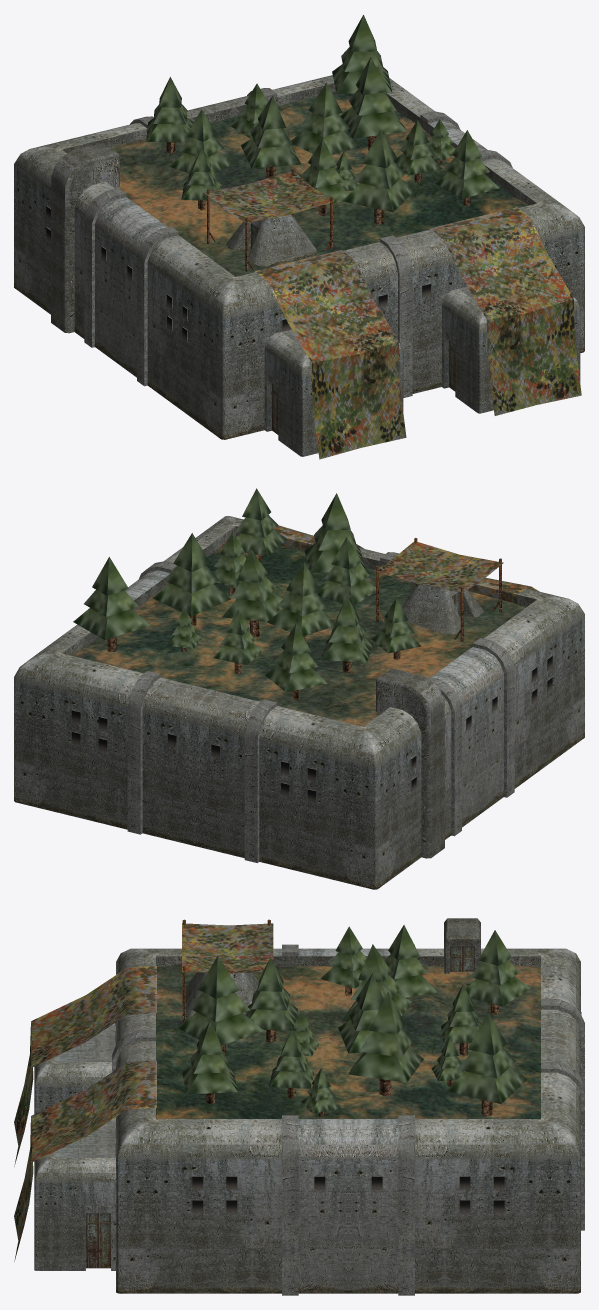
The model's file is wolfsschanze_low_poly.glb.
3 renders of one model, top to bottom at view 1: azimuth 30°, elevation 25°; view 2: azimuth 150°, elevation 25°; view 3: azimuth 270°, elevation 25°, orthographic. The views are drawn at different scales.
Visible parts, largest first — view 1: Material1; view 2: Material1; view 3: Material1.
Part boxes in pixels (x1=…): Material1: x1=14, y1=15, x2=584, y2=459; Material1: x1=14, y1=488, x2=584, y2=889; Material1: x1=14, y1=918, x2=584, y2=1295.
Size of the model in its own units: 5.78 by 3.35 by 6.88.
Materials: 1 (1 with a texture image).
